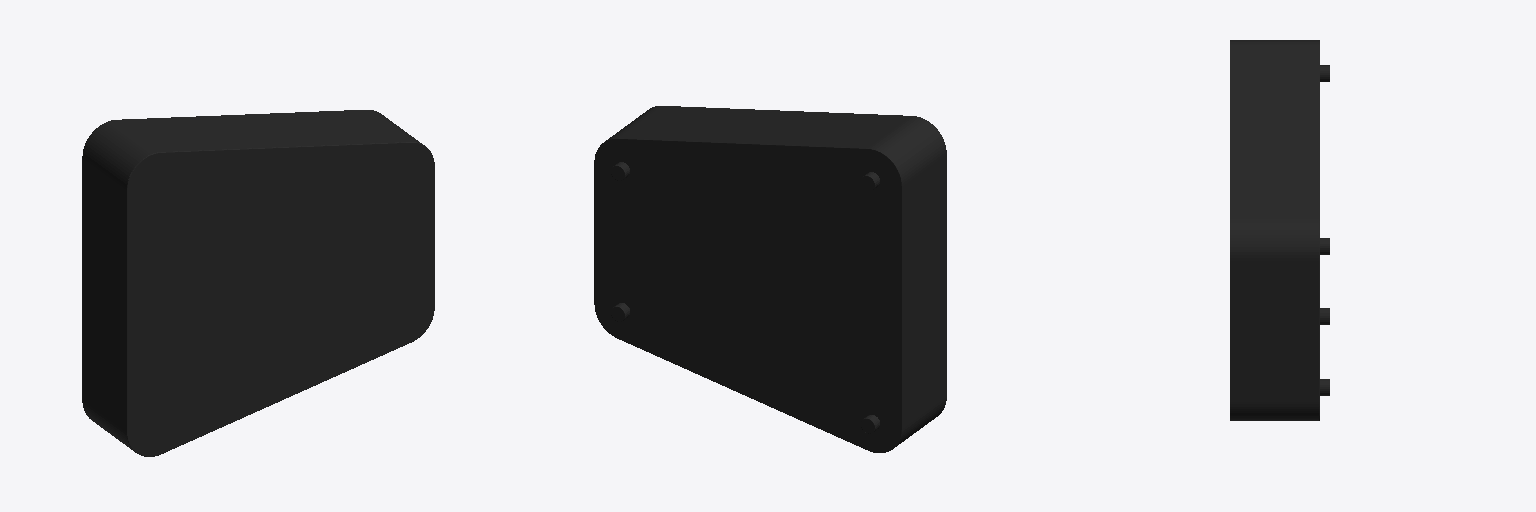
Rendered from Molteni_Mayfair_Table_V1_mat(1).obj.
3 renders of one model, left to right at view 1: azimuth 30°, elevation 25°; view 2: azimuth 150°, elevation 25°; view 3: azimuth 270°, elevation 25°, orthographic.
Parts seen in each view (by area): view 1: Molteni_Mayfair_Table_V1_mat1; view 2: Molteni_Mayfair_Table_V1_mat1; view 3: Molteni_Mayfair_Table_V1_mat1.
Boxes of the visible parts, <box> form: Molteni_Mayfair_Table_V1_mat1: <box>82,110,434,456</box>; Molteni_Mayfair_Table_V1_mat1: <box>594,106,946,452</box>; Molteni_Mayfair_Table_V1_mat1: <box>1230,40,1329,420</box>.
Size of the model in its own units: 85 by 80 by 24.